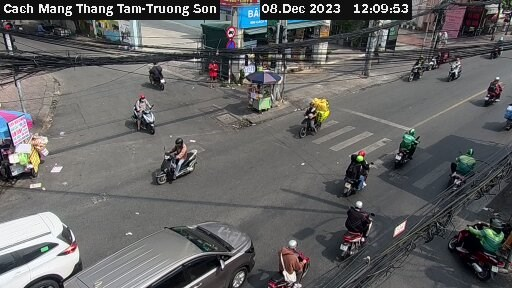car: (66, 220, 259, 288), (1, 207, 81, 288)
motorbike: (443, 202, 512, 275), (443, 142, 494, 196), (145, 145, 209, 185), (123, 93, 173, 144), (334, 202, 378, 255), (264, 238, 313, 284), (385, 123, 428, 164), (290, 103, 337, 139), (335, 151, 376, 191), (134, 58, 177, 90), (478, 69, 505, 101), (484, 31, 510, 63), (444, 54, 466, 84), (405, 54, 428, 79)
